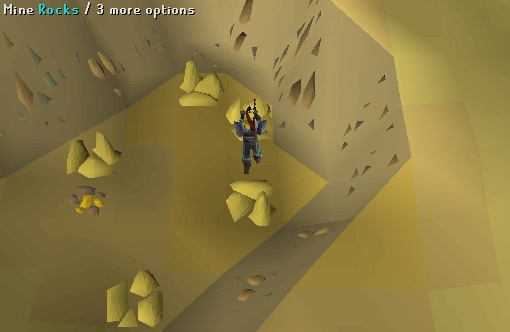gold: (174, 51, 227, 114), (66, 129, 126, 181), (224, 177, 282, 228)
